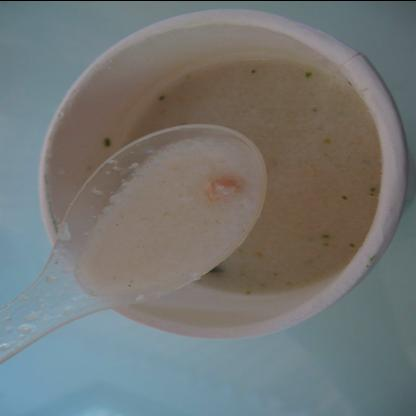Joke: (43, 23, 390, 319)
